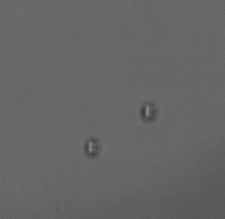Dead Cell: (140, 102, 159, 121), (84, 136, 101, 157)
